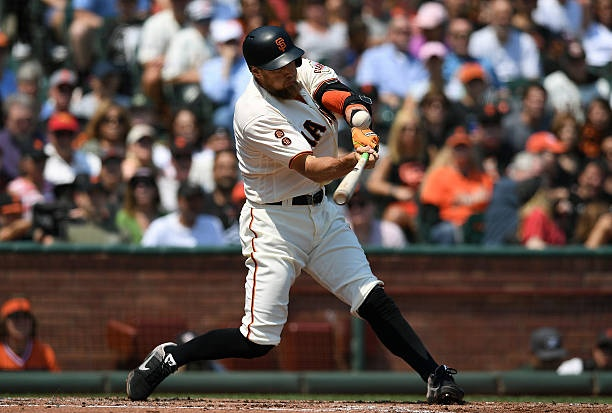bita: (331, 127, 384, 217)
